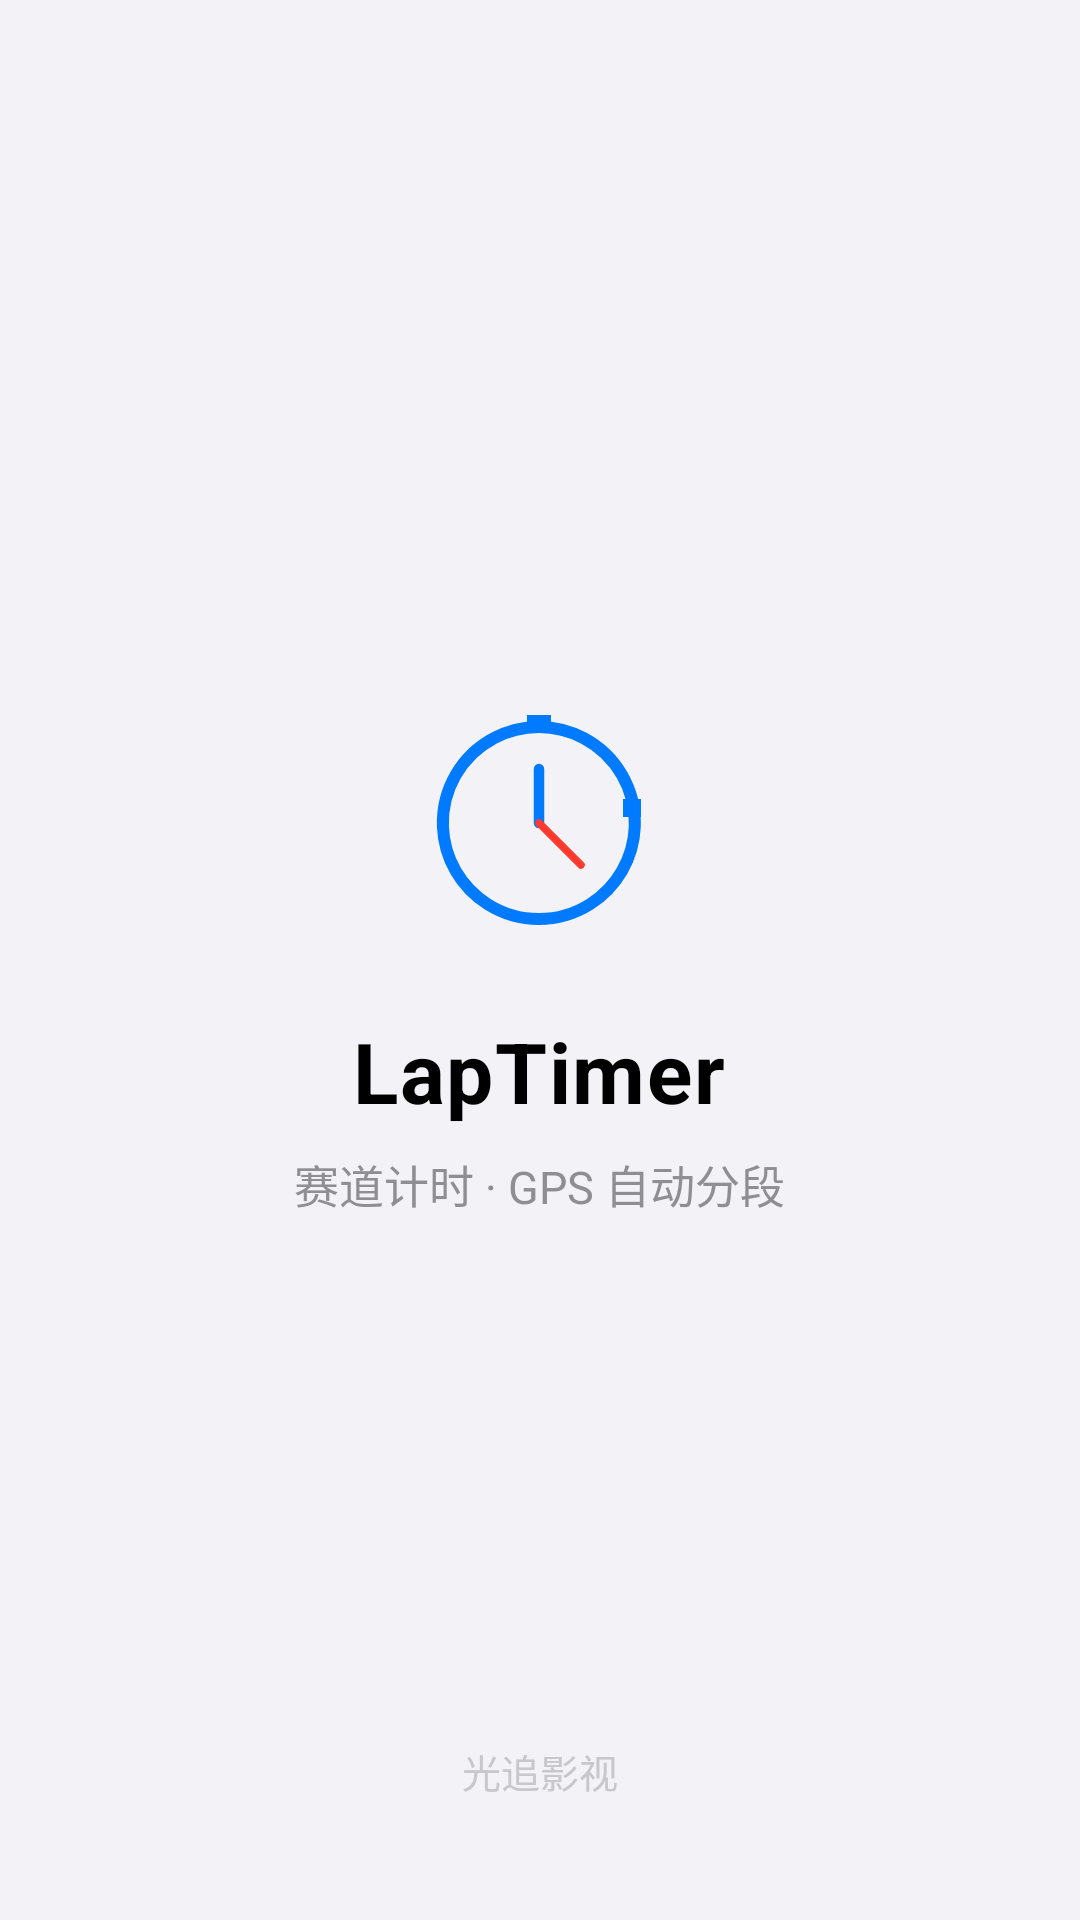

Locate icon controls on the screen. Image size 1080x1920, boxes as (x1, y1, x2, y2).
stopwatch: (436, 715, 641, 925)
